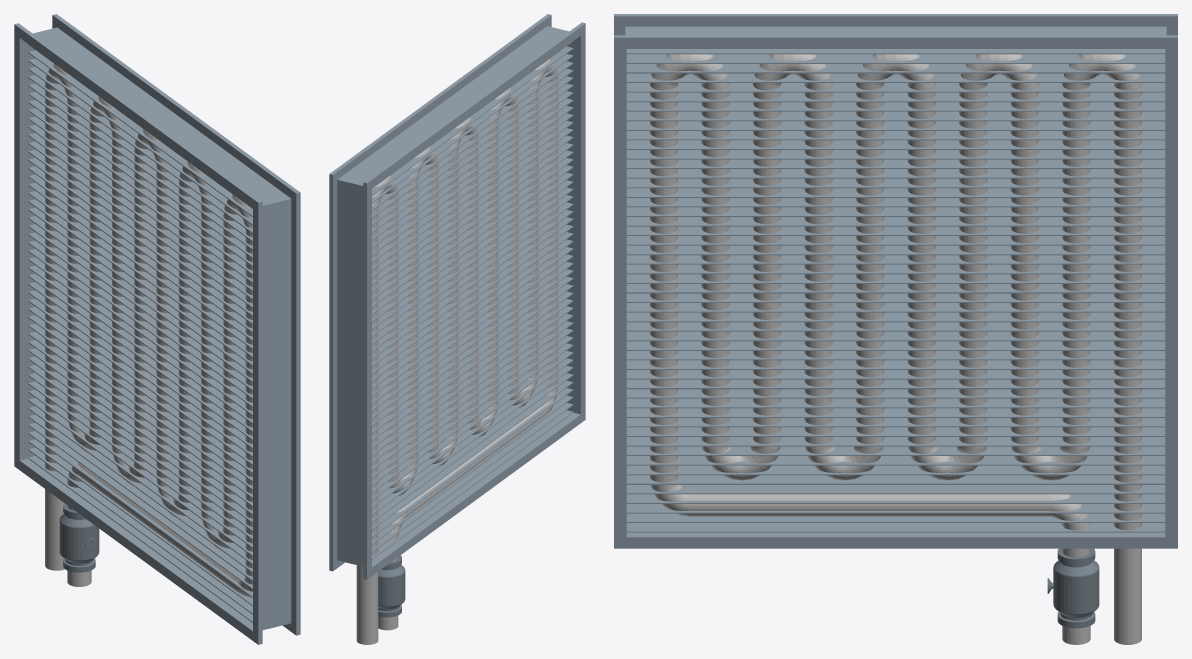
The model's file is Coil.glb.
3 renders of one model, left to right at view 1: azimuth 30°, elevation 25°; view 2: azimuth 150°, elevation 25°; view 3: azimuth 270°, elevation 25°, orthographic. The views are drawn at different scales.
Parts seen in each view (by area): view 1: child.012, child.001, child.006, child.007, child.003, child.009, child.002, child.008, child.005, child.004, child.013, child.011 (+1 smaller); view 2: child.012, child.001, child.010, child.007, child.009, child.005, child.003, child.002, child.006, child.004, child.008, child.011 (+1 smaller); view 3: child.012, child.001, child.010, child.002, child.009, child.007, child.004, child.005, child.003, child.006, child.008, child.011 (+1 smaller).
Part boxes in pixels (x1,y1,x2,y2): child.012: (14,14,300,644); child.001: (45,64,64,570); child.006: (147,133,173,513); child.007: (169,162,193,518); child.003: (80,96,104,453); child.009: (214,194,238,550); child.002: (57,68,84,448); child.008: (191,166,217,545); child.005: (124,129,148,485); child.004: (102,100,128,480); child.013: (59,503,99,572); child.011: (67,462,238,590); child.012: (329,14,585,579); child.001: (356,179,386,644); child.010: (544,59,558,413); child.007: (483,92,506,432); child.009: (523,62,546,403); child.005: (443,121,466,461); child.003: (403,150,426,490); child.002: (385,176,406,495); child.006: (465,117,486,436); child.004: (425,146,446,466); child.008: (505,88,526,407); child.011: (378,405,546,630); child.012: (614,14,1177,548); child.001: (1102,54,1141,644); child.010: (650,54,689,516); child.002: (1050,54,1102,480); child.009: (689,54,741,480); child.007: (793,54,844,480); child.004: (947,54,998,480); child.005: (896,54,947,480); child.003: (999,54,1050,480); child.006: (844,54,895,480); child.008: (741,54,792,480); child.011: (689,494,1090,644).
Bounding box in the file's own units: 100 × 1200 × 1000.
